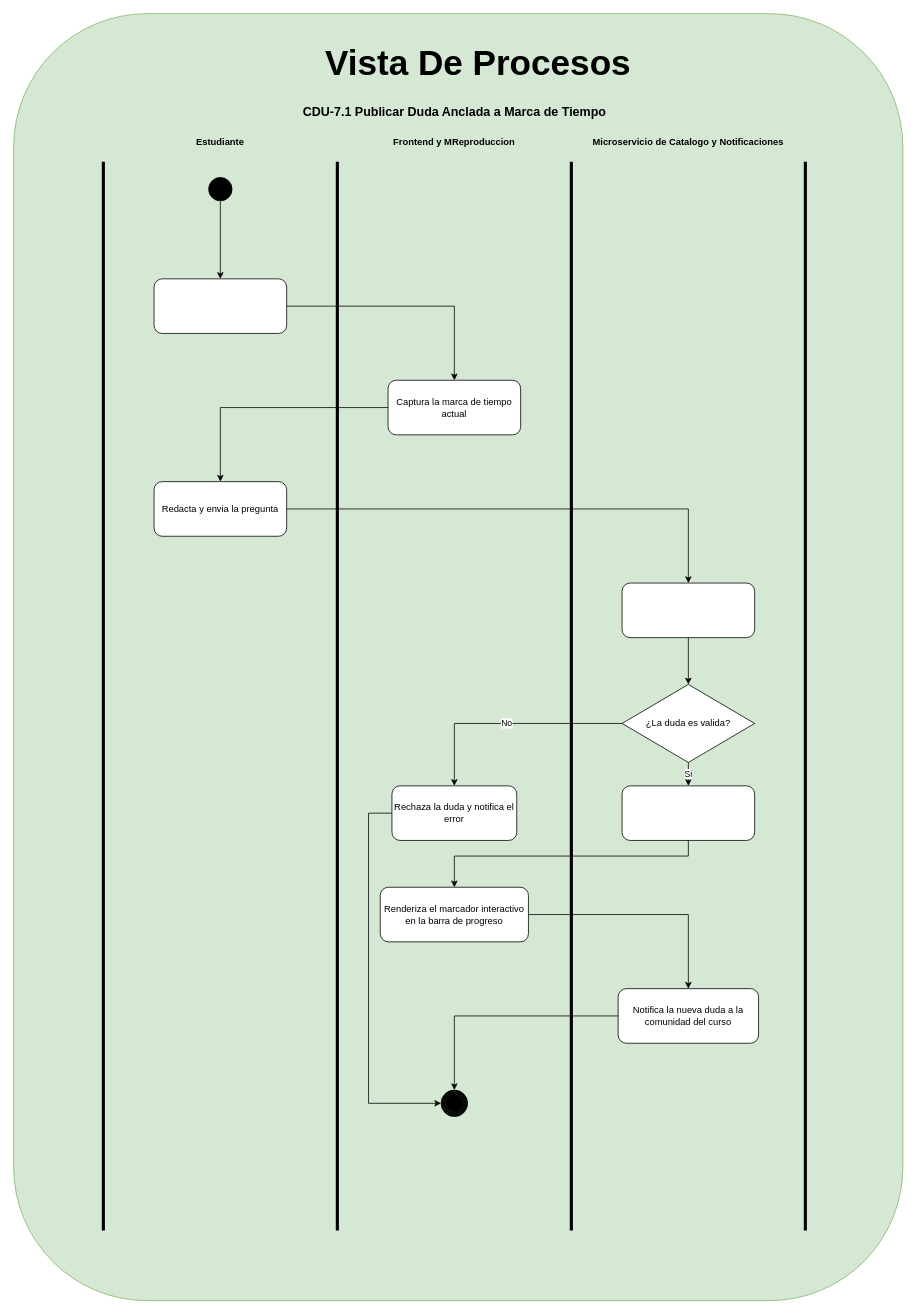
This 916x1314 diagram has some shape labels left out. Here are the shapes that lost their labels. From the top down, the box of each, then its label:
(153, 278, 287, 333): Pausa el video en el instante deseado
(621, 582, 755, 638): Recibe la duda con la marca de tiempo
(621, 785, 755, 840): Persiste la duda asociada al video
